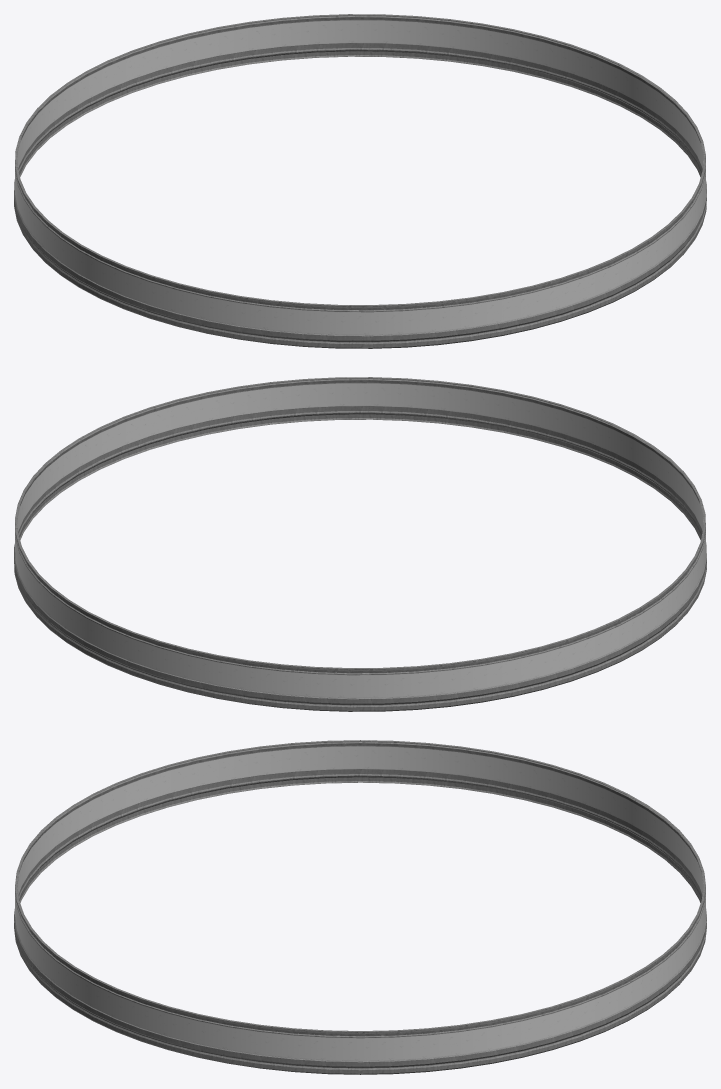
Rendered from CentralArea_WallsBottom_Opt.fbx.
3 renders of one model, top to bottom at view 1: azimuth 30°, elevation 25°; view 2: azimuth 150°, elevation 25°; view 3: azimuth 270°, elevation 25°, orthographic.
Parts seen in each view (by area): view 1: CentralArea_WallsBottom_Opt; view 2: CentralArea_WallsBottom_Opt; view 3: CentralArea_WallsBottom_Opt.
Part boxes in pixels (box(x1,y1,x2,y2)): CentralArea_WallsBottom_Opt: box(14, 14, 706, 348); CentralArea_WallsBottom_Opt: box(14, 377, 706, 711); CentralArea_WallsBottom_Opt: box(14, 740, 706, 1074).
Bounding box in the file's own units: 60.44 × 4.1 × 60.44.
